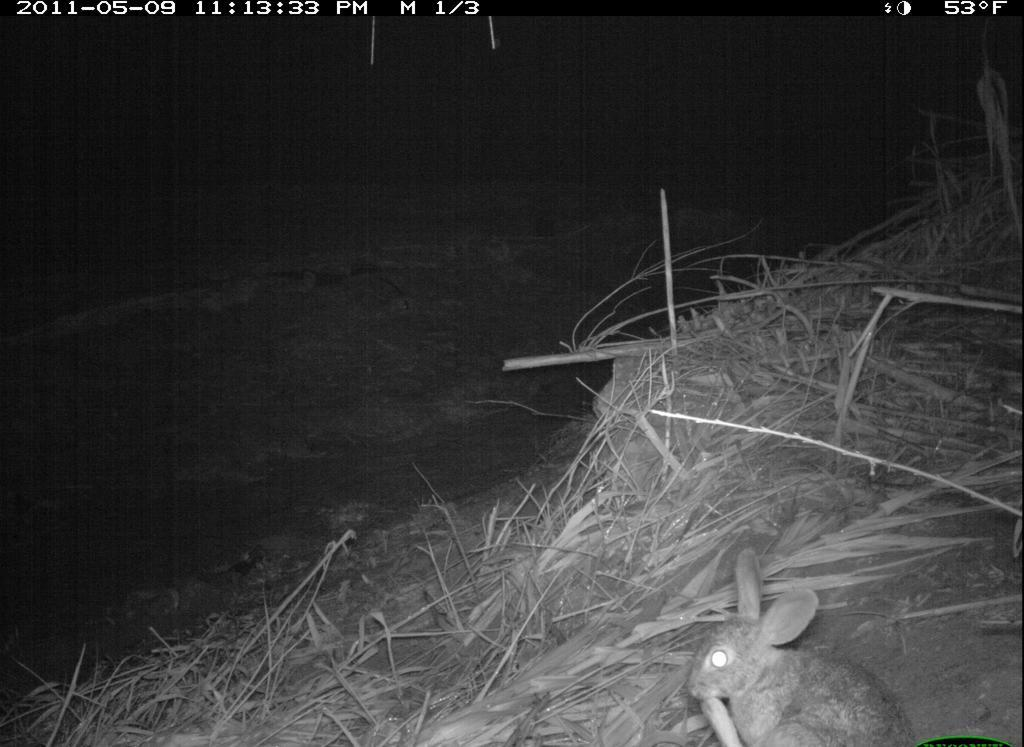rabbit: (687, 545, 916, 744)
